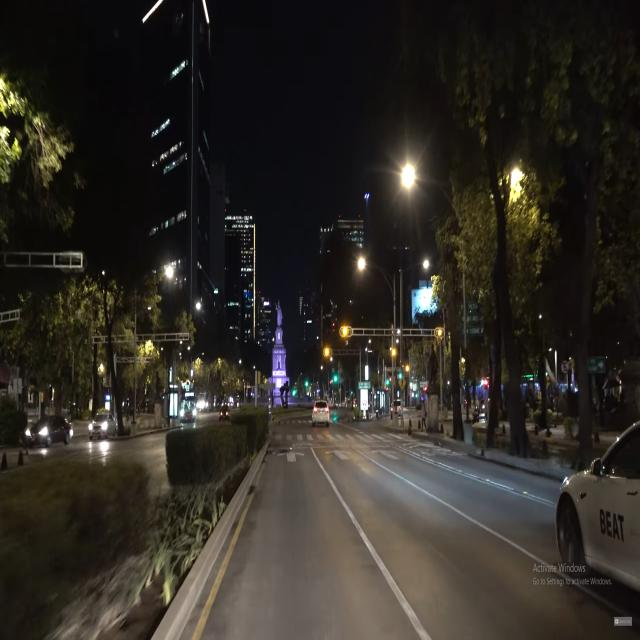headlights: (16, 422, 52, 446), (86, 418, 110, 438), (178, 403, 196, 425)
